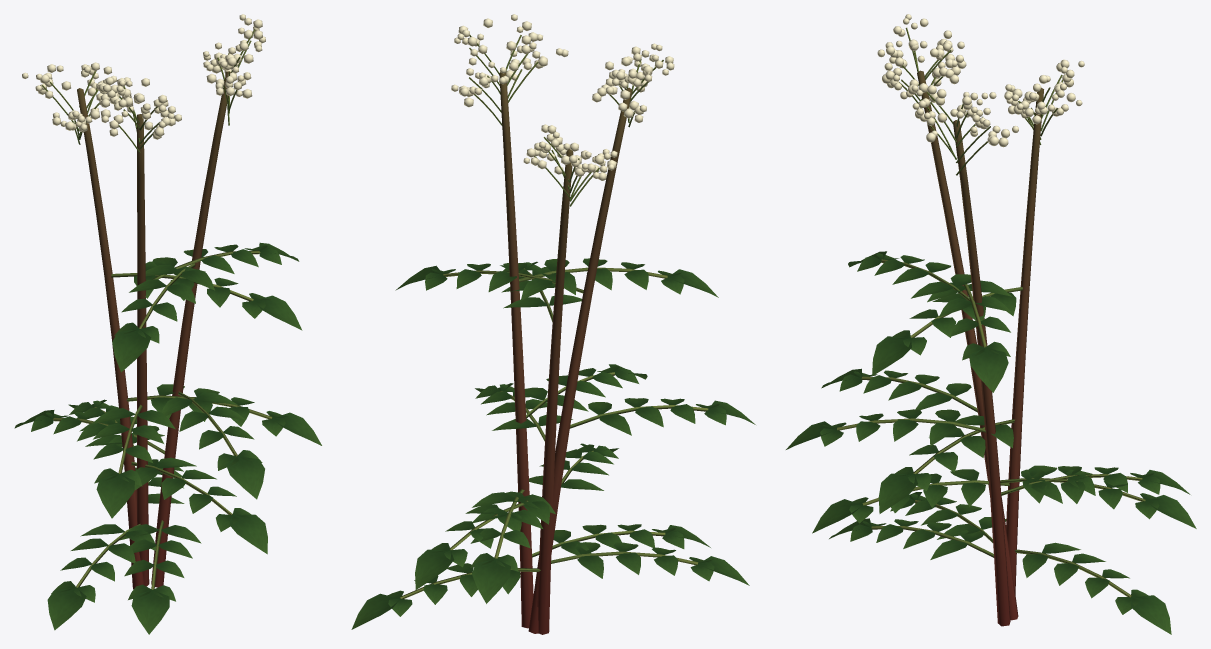
File: meadowsweet.glb
The picture shows the model from 3 angles, left to right: view 1: azimuth 30°, elevation 25°; view 2: azimuth 150°, elevation 25°; view 3: azimuth 270°, elevation 25°; orthographic projection.
Parts seen in each view (by area): view 1: meadowsweet; view 2: meadowsweet; view 3: meadowsweet.
Boxes of the visible parts, x1=… form: meadowsweet: x1=14, y1=14, x2=321, y2=634; meadowsweet: x1=351, y1=14, x2=755, y2=634; meadowsweet: x1=786, y1=14, x2=1196, y2=634.
Size of the model in its own units: 0.6676 by 1.2 by 0.7866.
Materials: 1 (1 with a texture image).
